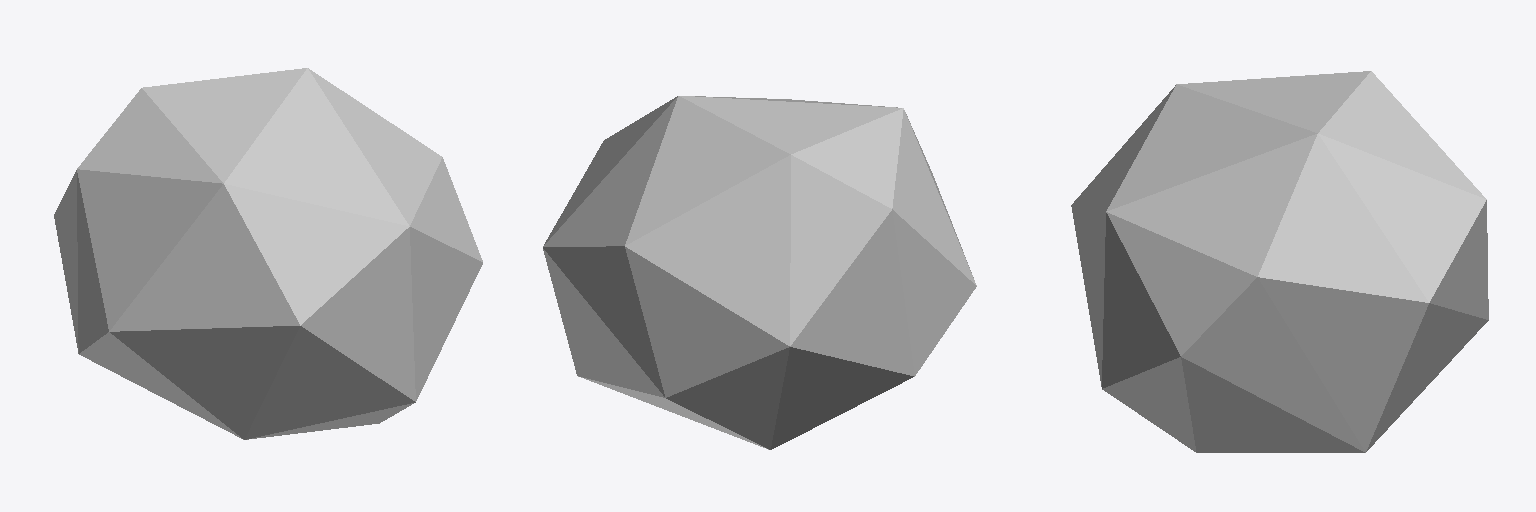
File: tree_leaves.obj
3 views of the same model, side by side, from view 1: azimuth 30°, elevation 25°; view 2: azimuth 150°, elevation 25°; view 3: azimuth 270°, elevation 25° (orthographic).
Visible parts, largest first — view 1: polySurface5; view 2: polySurface5; view 3: polySurface5.
Boxes of the visible parts, x1=… form: polySurface5: x1=54, y1=68, x2=482, y2=439; polySurface5: x1=543, y1=96, x2=976, y2=449; polySurface5: x1=1071, y1=71, x2=1488, y2=452.
Size of the model in its own units: 0.9241 by 0.7796 by 0.9393.